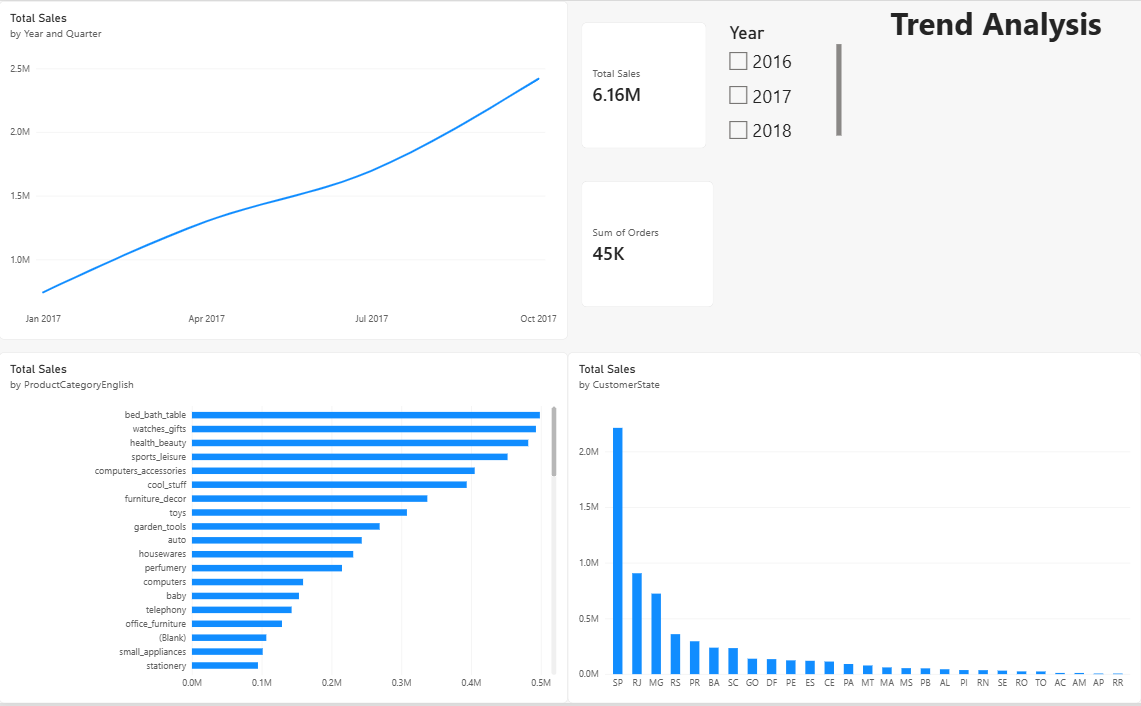

Layout of this report page (visuals, bound fields, positions):
{"tool":"powerbi","page":{"name":"Sales Analysis","canvas":[1920,1080],"ordinal":1},"visuals":[{"type":"lineChart","fields":{"Category":["mart vw_SalesPerformance.FullDate.Variation.Date Hierarchy.Year","mart vw_SalesPerformance.FullDate.Variation.Date Hierarchy.Quarter","mart vw_SalesPerformance.FullDate.Variation.Date Hierarchy.Month","mart vw_SalesPerformance.FullDate.Variation.Date Hierarchy.Day"],"Y":["mart vw_SalesPerformance.Total Sales"]},"box":[0,0,875,521.2],"z":0},{"type":"clusteredBarChart","fields":{"Category":["mart vw_SalesPerformance.ProductCategoryEnglish"],"Y":["mart vw_SalesPerformance.Total Sales"]},"box":[0,540.4,875,540.4],"z":1},{"type":"clusteredColumnChart","fields":{"Category":["mart vw_SalesPerformance.CustomerState"],"Y":["mart vw_SalesPerformance.Total Sales"]},"box":[875,540.4,882.7,528.8],"z":2},{"type":"slicer","fields":{"Values":["mart vw_SalesPerformance.FullDate.Variation.Date Hierarchy.Year"]},"box":[1371.2,86.5,400,257.7],"z":3},{"type":"cardVisual","fields":{"Data":["mart vw_SalesPerformance.Total Sales"]},"box":[959.6,0,296.2,261.5],"z":4},{"type":"cardVisual","fields":{"Data":["Sum(mart vw_SalesPerformance.Orders)"]},"box":[959.6,276.9,298.1,253.8],"z":5},{"type":"textbox","box":[1691,0,229,262],"z":6},{"type":"textbox","box":[1371.2,286.5,548.1,234.6],"z":7},{"type":"textbox","box":[1758,540,161,529],"z":8},{"type":"textbox","box":[1371.2,0,548.1,261.5],"z":9}]}

Visuals, with their boxes on the page's 1920x1080 design canvas (x1, y1, x2, y2). These are canvas units, not pixel positions in the 1141x706 screenshot, which may show the page scaled, cropped or inside an application window:
lineChart - mart vw_SalesPerformance.FullDate.Variation.Date Hierarchy.Year x mart vw_SalesPerformance.FullDate.Variation.Date Hierarchy.Quarter: select_region(0, 0, 875, 521)
clusteredBarChart - mart vw_SalesPerformance.ProductCategoryEnglish x mart vw_SalesPerformance.Total Sales: select_region(0, 540, 875, 1081)
clusteredColumnChart - mart vw_SalesPerformance.CustomerState x mart vw_SalesPerformance.Total Sales: select_region(875, 540, 1758, 1069)
slicer - mart vw_SalesPerformance.FullDate.Variation.Date Hierarchy.Year: select_region(1371, 86, 1771, 344)
cardVisual - mart vw_SalesPerformance.Total Sales: select_region(960, 0, 1256, 262)
cardVisual - Sum(mart vw_SalesPerformance.Orders): select_region(960, 277, 1258, 531)
textbox: select_region(1691, 0, 1920, 262)
textbox: select_region(1371, 286, 1919, 521)
textbox: select_region(1758, 540, 1919, 1069)
textbox: select_region(1371, 0, 1919, 262)
